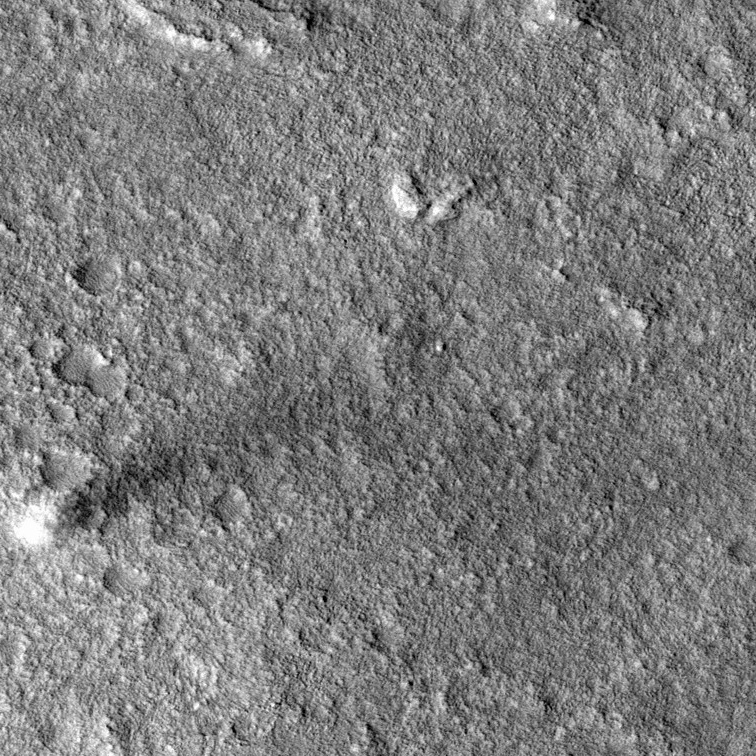dust_devil: (1, 355, 340, 557)
